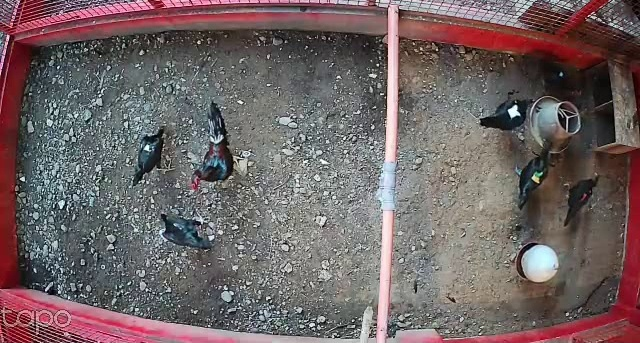Chicken: (155, 208, 219, 256), (128, 124, 174, 190), (512, 145, 554, 210), (560, 169, 602, 231), (534, 55, 586, 102), (477, 96, 536, 134)
Rooster: (190, 100, 249, 195)
Saddle_Color_Red: (579, 193, 588, 201)
Saddle_Color_White: (506, 104, 520, 121)
Saddle_Color_YellowGreen: (532, 171, 544, 182)
